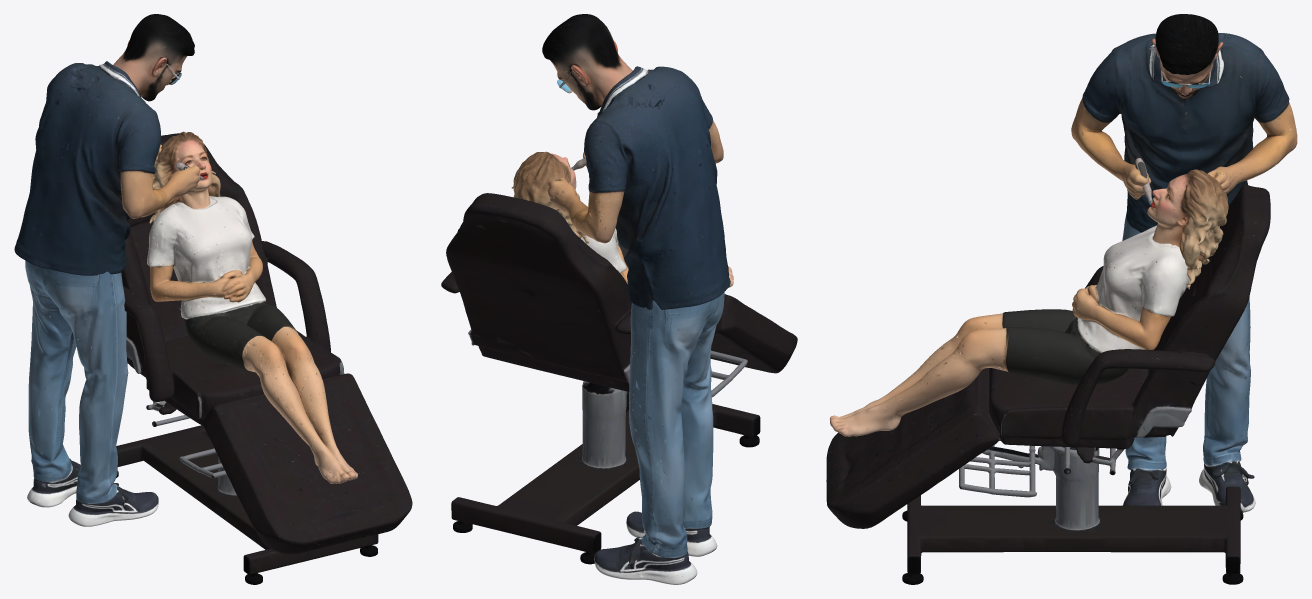
The picture shows the model from 3 angles, left to right: view 1: azimuth 30°, elevation 25°; view 2: azimuth 150°, elevation 25°; view 3: azimuth 270°, elevation 25°; orthographic projection. The views are drawn at different scales.
Visible parts, largest first — view 1: geometry_0, geometry_0003, geometry_0005, geometry_0001, geometry_0002, geometry_0006; view 2: geometry_0, geometry_0003, geometry_0001, geometry_0002, geometry_0006, geometry_0005; view 3: geometry_0, geometry_0003, geometry_0005, geometry_0001, geometry_0006, geometry_0002.
Boxes of the visible parts, box(x1,y1,x2,y2) form: geometry_0: box(116, 133, 412, 584); geometry_0003: box(14, 61, 199, 275); geometry_0005: box(147, 196, 357, 483); geometry_0001: box(25, 260, 158, 526); geometry_0002: box(113, 14, 194, 101); geometry_0006: box(149, 131, 220, 223); geometry_0: box(441, 193, 797, 564); geometry_0003: box(547, 66, 730, 309); geometry_0001: box(594, 292, 724, 584); geometry_0002: box(542, 14, 632, 110); geometry_0006: box(511, 151, 589, 243); geometry_0005: box(581, 228, 733, 287); geometry_0: box(826, 184, 1270, 584); geometry_0003: box(1071, 33, 1297, 232); geometry_0005: box(830, 225, 1189, 436); geometry_0001: box(1122, 211, 1255, 512); geometry_0006: box(1147, 169, 1228, 289); geometry_0002: box(1152, 14, 1223, 98).
Size of the model in its own units: 0.7571 by 1.35 by 1.1.
Materials: 7 (7 with a texture image).
